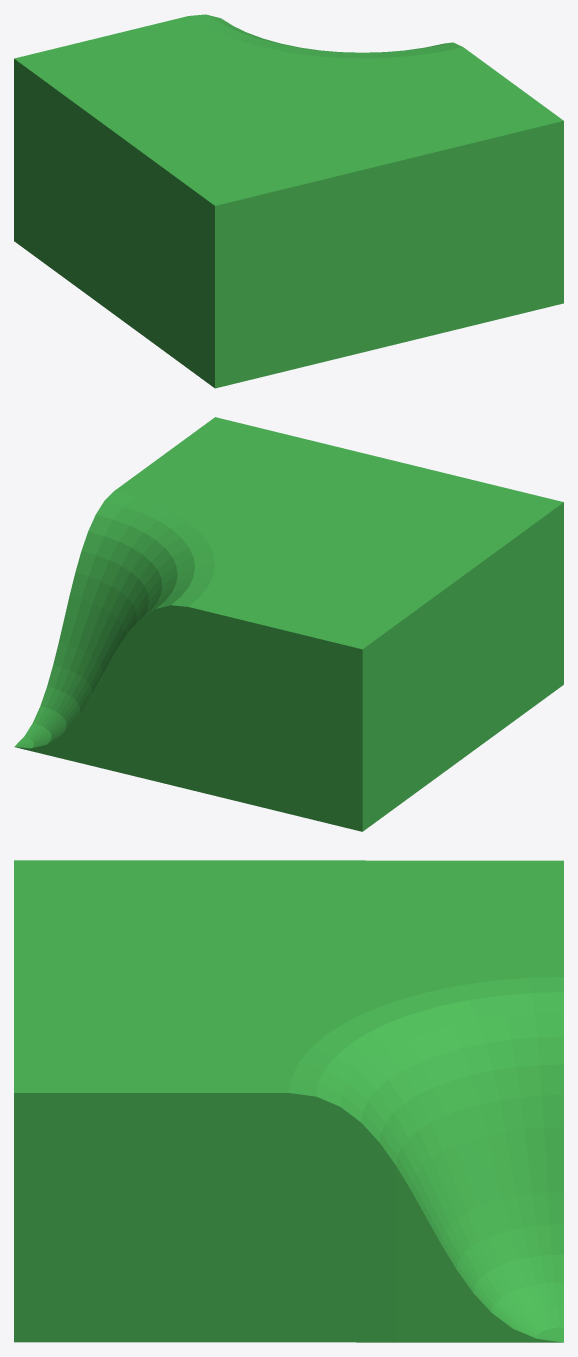
Rendered from CornerPiece.glb.
3 views of the same model, one above another, from view 1: azimuth 30°, elevation 25°; view 2: azimuth 150°, elevation 25°; view 3: azimuth 270°, elevation 25° (orthographic). The views are drawn at different scales.
Parts seen in each view (by area): view 1: BezierCurve.017; view 2: BezierCurve.017; view 3: BezierCurve.017.
Boxes of the visible parts, left/top/right/bottom form: BezierCurve.017: left=14, top=14, right=563, bottom=388; BezierCurve.017: left=14, top=417, right=563, bottom=831; BezierCurve.017: left=14, top=860, right=563, bottom=1342.
Bounding box in the file's own units: 4 × 2 × 4.
